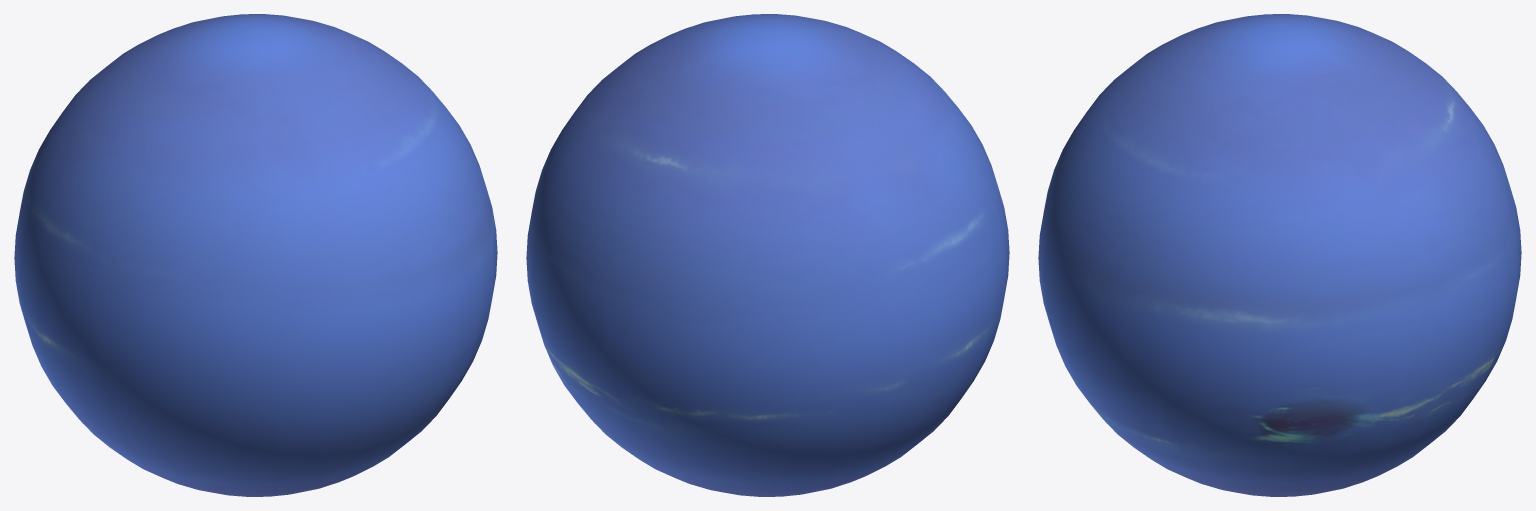
Rendered from neptune.obj.
3 renders of one model, left to right at view 1: azimuth 30°, elevation 25°; view 2: azimuth 150°, elevation 25°; view 3: azimuth 270°, elevation 25°, orthographic.
Parts seen in each view (by area): view 1: pSphere1; view 2: pSphere1; view 3: pSphere1.
Boxes of the visible parts, left/top/right/bottom form: pSphere1: left=14, top=14, right=497, bottom=496; pSphere1: left=526, top=14, right=1009, bottom=496; pSphere1: left=1038, top=14, right=1521, bottom=496.
Bounding box in the file's own units: 1.99 × 2 × 2.
Materials: 1 (1 with a texture image).
